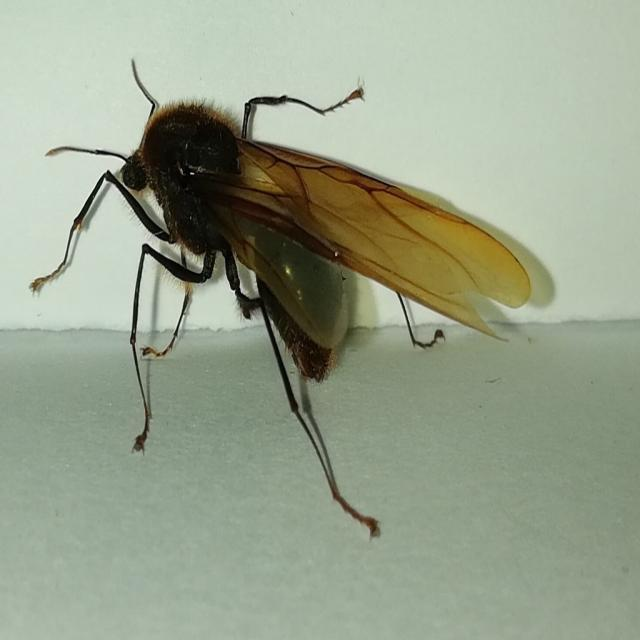Alive-Female-Alate: (29, 58, 532, 545)
